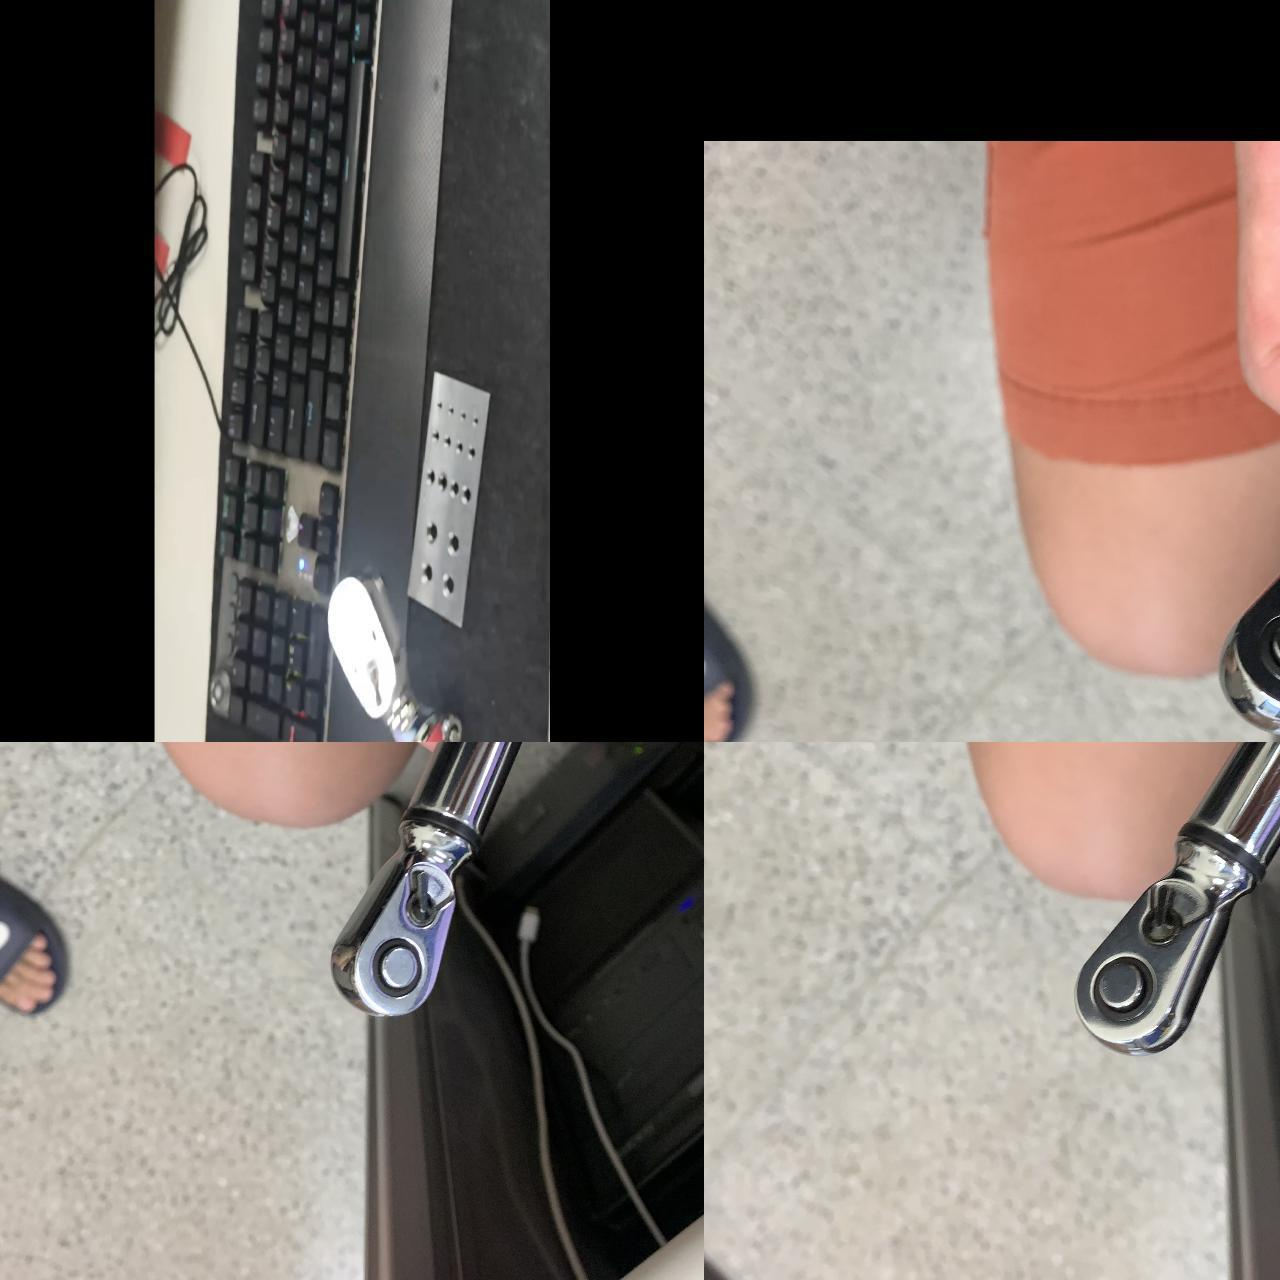Tool: (1065, 826, 1255, 1055), (326, 816, 482, 1019), (1216, 486, 1280, 735)
